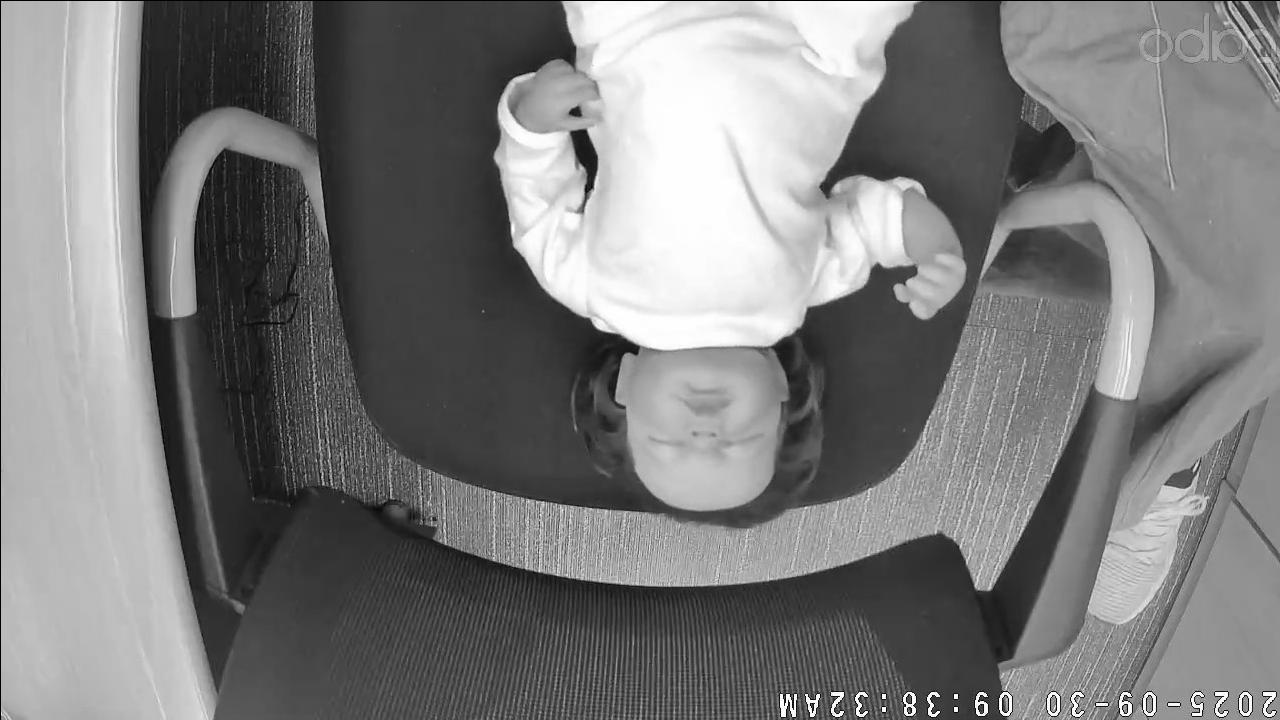hand: (512, 57, 602, 133), (894, 243, 966, 320)
